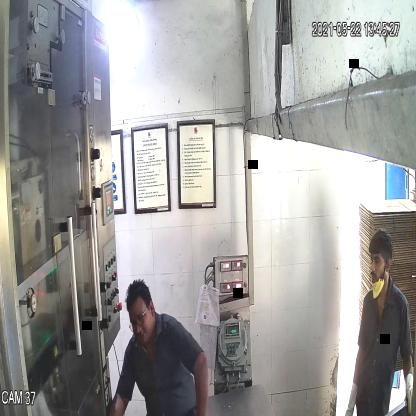goggles: (124, 307, 152, 334)
no_goggles: (368, 254, 388, 270)
